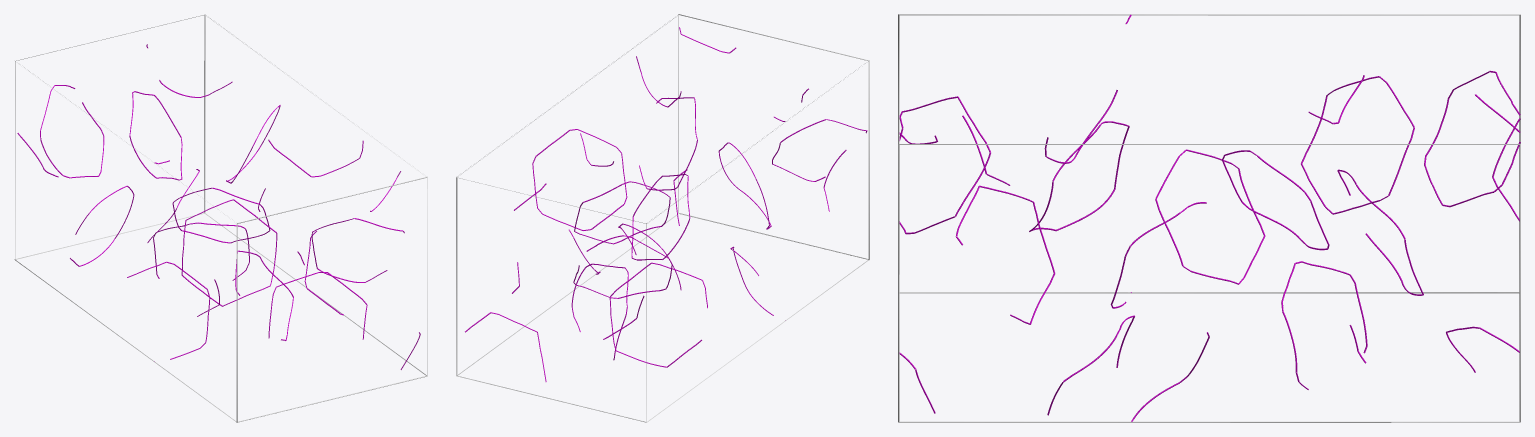
3 renders of one model, left to right at view 1: azimuth 30°, elevation 25°; view 2: azimuth 150°, elevation 25°; view 3: azimuth 270°, elevation 25°, orthographic. The views are drawn at different scales.
Parts seen in each view (by area): view 1: Shape_IndexedLineSet.001, Shape_IndexedLineSet; view 2: Shape_IndexedLineSet.001, Shape_IndexedLineSet; view 3: Shape_IndexedLineSet.001, Shape_IndexedLineSet.
Boxes of the visible parts, x1=… form: Shape_IndexedLineSet.001: x1=17, y1=44, x2=420, y2=369; Shape_IndexedLineSet: x1=14, y1=14, x2=427, y2=422; Shape_IndexedLineSet.001: x1=465, y1=27, x2=867, y2=381; Shape_IndexedLineSet: x1=456, y1=14, x2=869, y2=422; Shape_IndexedLineSet.001: x1=899, y1=14, x2=1520, y2=421; Shape_IndexedLineSet: x1=898, y1=14, x2=1520, y2=422.
Bounding box in the file's own units: 233 × 233 × 471.
